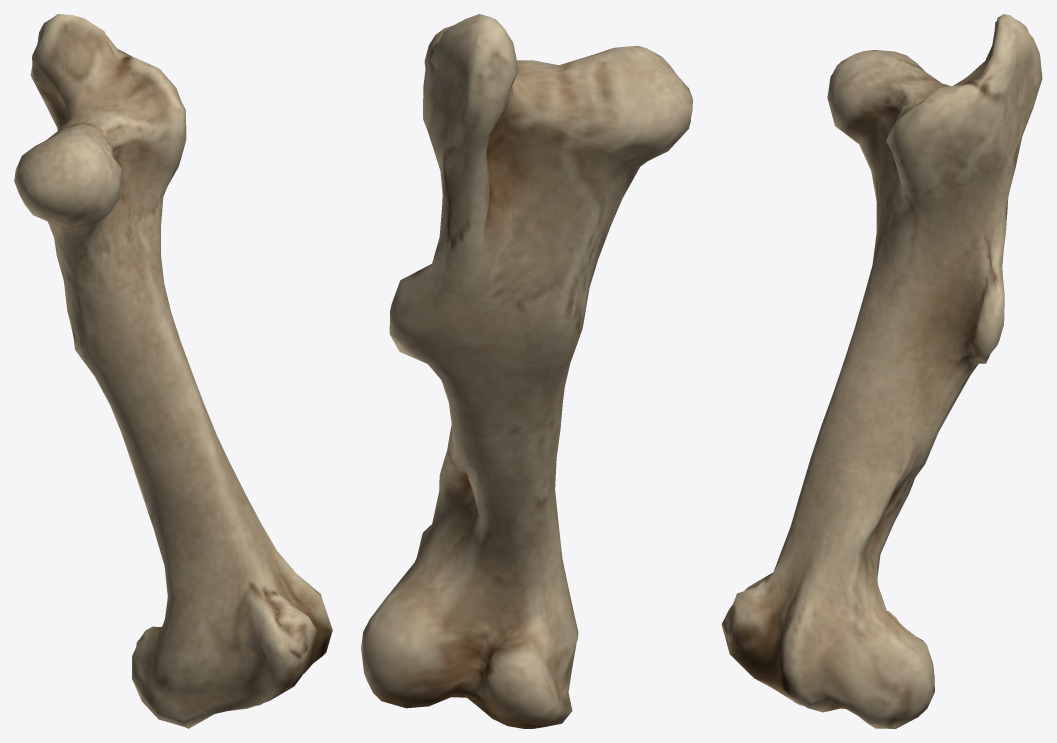
Rendered from Femur.glb.
The picture shows the model from 3 angles, left to right: view 1: azimuth 30°, elevation 25°; view 2: azimuth 150°, elevation 25°; view 3: azimuth 270°, elevation 25°; orthographic projection. The views are drawn at different scales.
Parts seen in each view (by area): view 1: L_Bck_Femur; view 2: L_Bck_Femur; view 3: L_Bck_Femur.
Boxes of the visible parts, x1,y1,x2,y2 form: L_Bck_Femur: (14,14,332,728); L_Bck_Femur: (361,14,692,728); L_Bck_Femur: (721,14,1042,728).
Size of the model in its own units: 0.179 by 0.4245 by 0.1861.
1 material, 1 textured.
